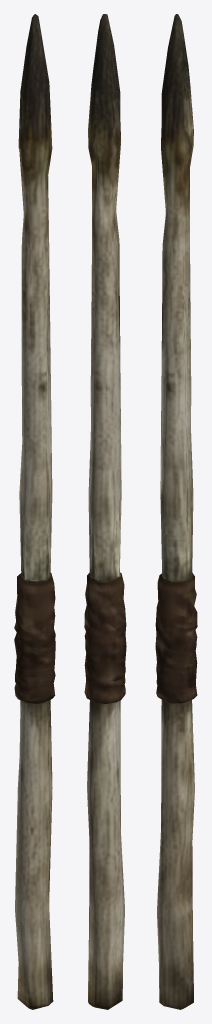
3 views of the same model, side by side, from view 1: azimuth 30°, elevation 25°; view 2: azimuth 150°, elevation 25°; view 3: azimuth 330°, elevation 25° (orthographic).
Visible parts, largest first — view 1: wooden-spear; view 2: wooden-spear; view 3: wooden-spear.
Part boxes in pixels (<box>): wooden-spear: <box>14,14,55,1009</box>; wooden-spear: <box>84,14,126,1009</box>; wooden-spear: <box>155,14,197,1009</box>.
Bounding box in the file's own units: 0.0618 × 1.61 × 0.0582.
Materials: 1 (1 with a texture image).
